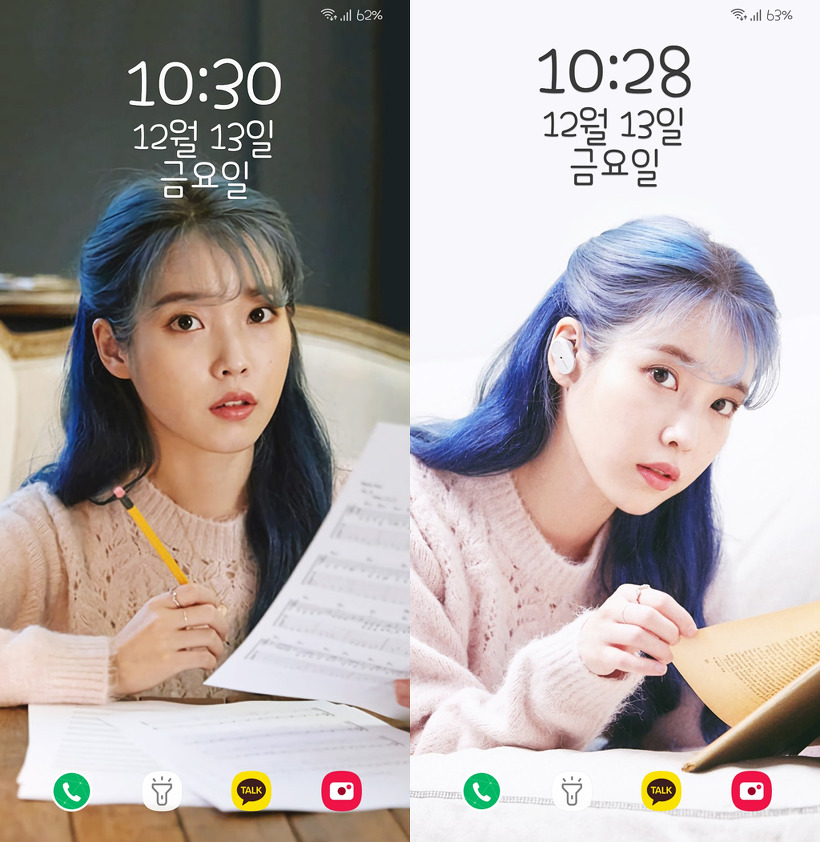earphone: (547, 316, 583, 390)
